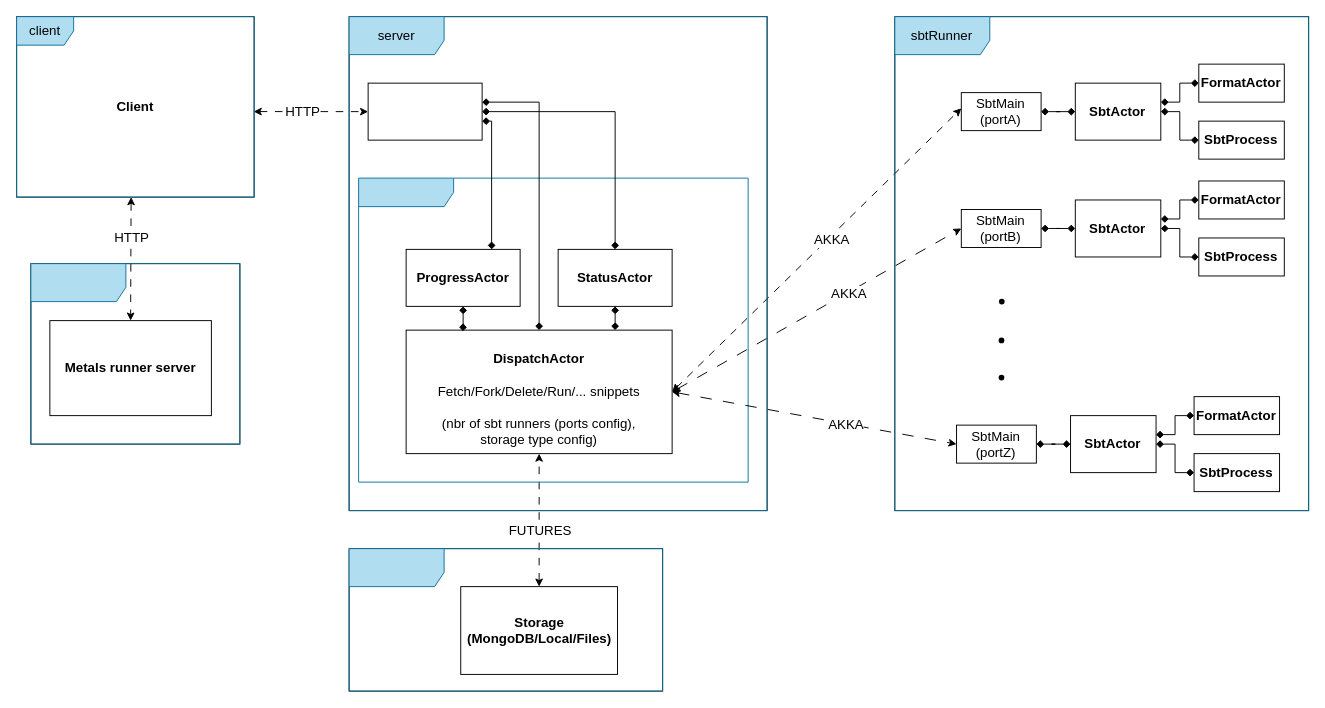
Some shapes in this 1325 by 708 pixel diagram are drawn without their labels. The centre of each missing label's shape, as x and y in pixels:
balancer: (x=553, y=329)
metalsRunner: (x=135, y=353)
ServerMain (Akka http routes): (x=424, y=111)
storage: (x=505, y=619)
